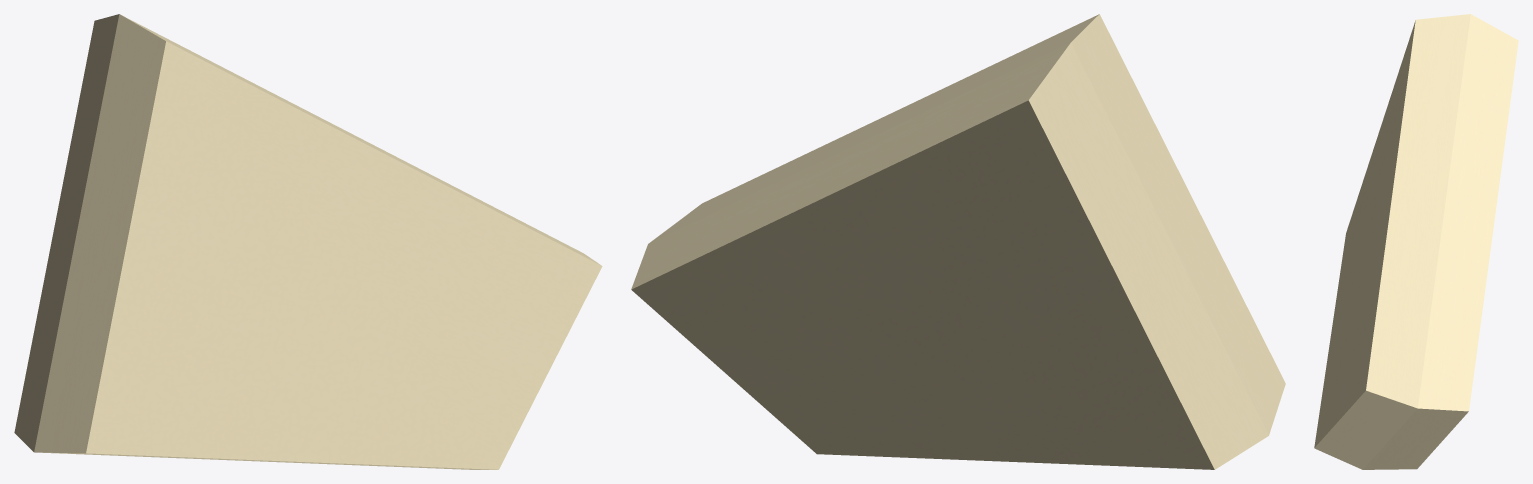
File: FXM_S29_HousingShard.fbx
3 renders of one model, left to right at view 1: azimuth 30°, elevation 25°; view 2: azimuth 150°, elevation 25°; view 3: azimuth 270°, elevation 25°, orthographic. The views are drawn at different scales.
Parts seen in each view (by area): view 1: FXM_S29_HousingShard_LOD0; view 2: FXM_S29_HousingShard_LOD0; view 3: FXM_S29_HousingShard_LOD0.
Part boxes in pixels (x1,y1,x2,y2): FXM_S29_HousingShard_LOD0: [14, 14, 602, 469]; FXM_S29_HousingShard_LOD0: [631, 14, 1285, 469]; FXM_S29_HousingShard_LOD0: [1314, 14, 1518, 469].
Size of the model in its own units: 0.23 by 0.1854 by 0.0966.
